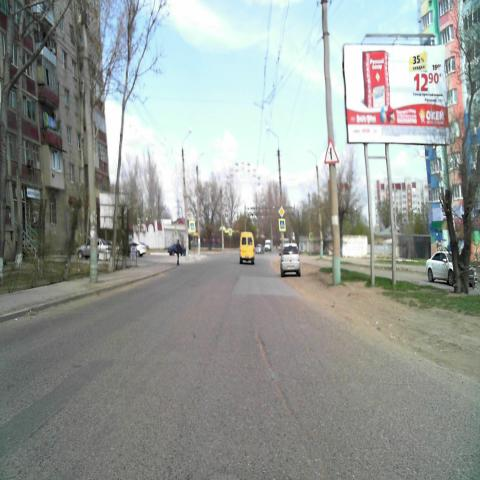2_1: (278, 206, 285, 218)
2_3_3: (323, 140, 339, 164)
5_19_1: (279, 219, 286, 232), (188, 220, 195, 232)
